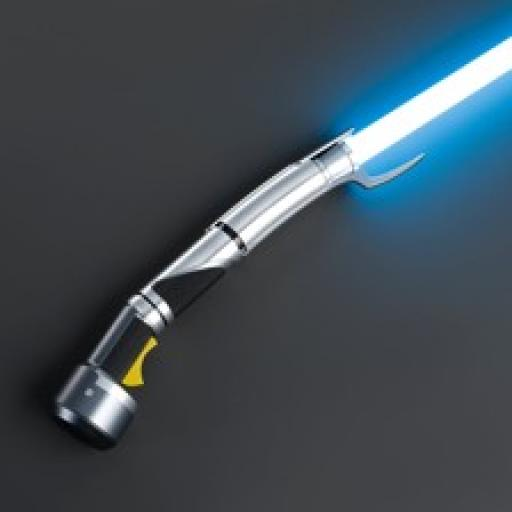lightsaber: (57, 36, 512, 451)
